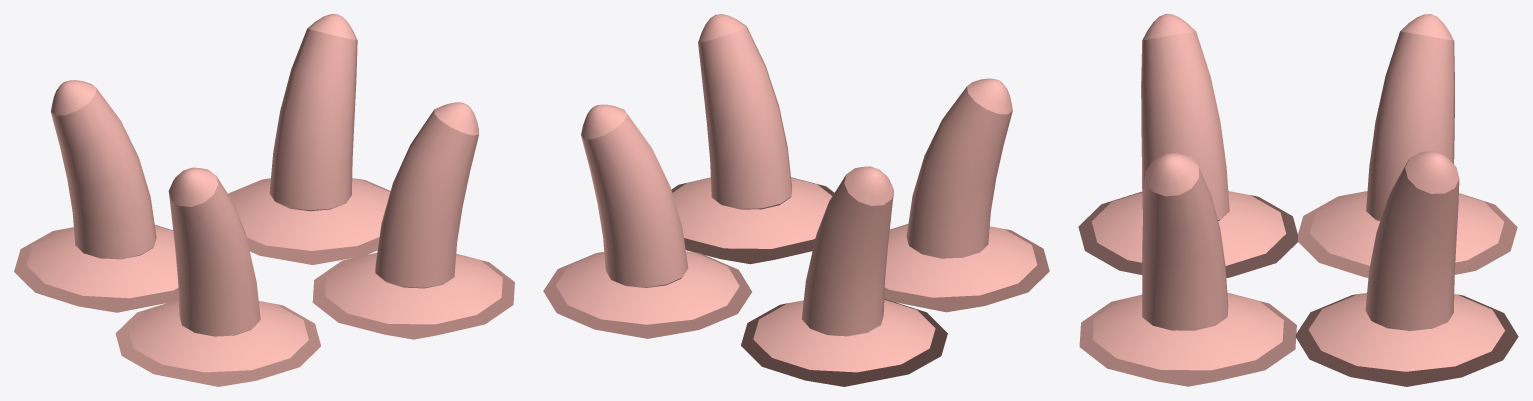
File: Fur.FBX
3 views of the same model, side by side, from view 1: azimuth 30°, elevation 25°; view 2: azimuth 150°, elevation 25°; view 3: azimuth 270°, elevation 25° (orthographic). The views are drawn at different scales.
Parts seen in each view (by area): view 1: OilTank001, OilTank003, OilTank002, OilTank004, Spindle003, Spindle004, Spindle002, Spindle001; view 2: OilTank003, OilTank001, OilTank004, OilTank002, Spindle001, Spindle002, Spindle004, Spindle003; view 3: OilTank001, Spindle001, Spindle003, OilTank003, OilTank002, OilTank004, Spindle004, Spindle002.
Part boxes in pixels (x1=…): OilTank001: x1=269, y1=14, x2=357, y2=211; OilTank003: x1=375, y1=102, x2=479, y2=288; OilTank002: x1=51, y1=80, x2=156, y2=259; OilTank004: x1=168, y1=167, x2=260, y2=336; Spindle003: x1=312, y1=252, x2=514, y2=339; Spindle004: x1=115, y1=299, x2=320, y2=386; Spindle002: x1=14, y1=224, x2=178, y2=312; Spindle001: x1=228, y1=178, x2=390, y2=264; OilTank003: x1=698, y1=14, x2=791, y2=209; OilTank001: x1=581, y1=104, x2=688, y2=287; OilTank004: x1=906, y1=78, x2=1012, y2=258; OilTank002: x1=802, y1=166, x2=893, y2=336; Spindle001: x1=543, y1=251, x2=751, y2=338; Spindle002: x1=741, y1=299, x2=947, y2=386; Spindle004: x1=884, y1=224, x2=1049, y2=312; Spindle003: x1=671, y1=177, x2=834, y2=264; OilTank001: x1=1365, y1=151, x2=1459, y2=330; Spindle001: x1=1295, y1=293, x2=1518, y2=386; Spindle003: x1=1079, y1=292, x2=1296, y2=386; OilTank003: x1=1142, y1=153, x2=1228, y2=330; OilTank002: x1=1366, y1=14, x2=1454, y2=221; OilTank004: x1=1141, y1=14, x2=1229, y2=220; Spindle004: x1=1078, y1=191, x2=1297, y2=277; Spindle002: x1=1298, y1=191, x2=1517, y2=277.
Size of the model in its own units: 4622 by 2740 by 4372.
